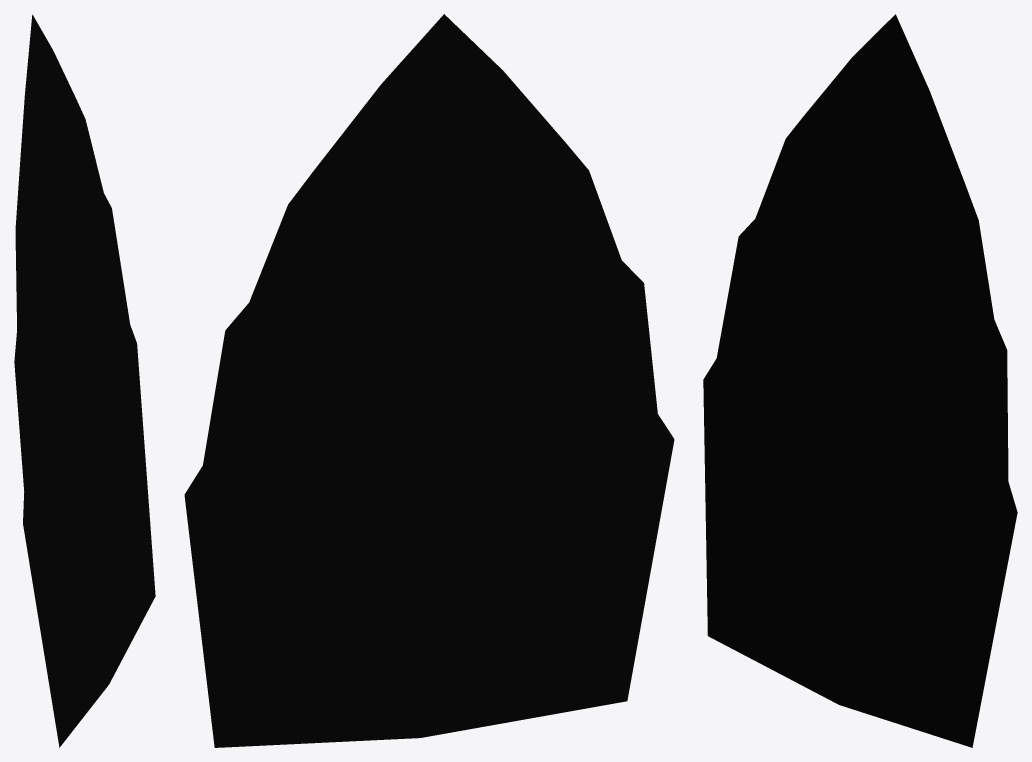
File: palace_window_02.fbx
3 views of the same model, side by side, from view 1: azimuth 30°, elevation 25°; view 2: azimuth 150°, elevation 25°; view 3: azimuth 270°, elevation 25° (orthographic). The views are drawn at different scales.
Visible parts, largest first — view 1: palace_tileset/palace_window_mat; view 2: palace_tileset/palace_window_mat; view 3: palace_tileset/palace_window_mat.
Part boxes in pixels (x1,y1,x2,y2): palace_tileset/palace_window_mat: (14,14,155,747); palace_tileset/palace_window_mat: (184,14,674,747); palace_tileset/palace_window_mat: (703,14,1017,747).
Size of the model in its own units: 1.8 by 4.21 by 1.8.
